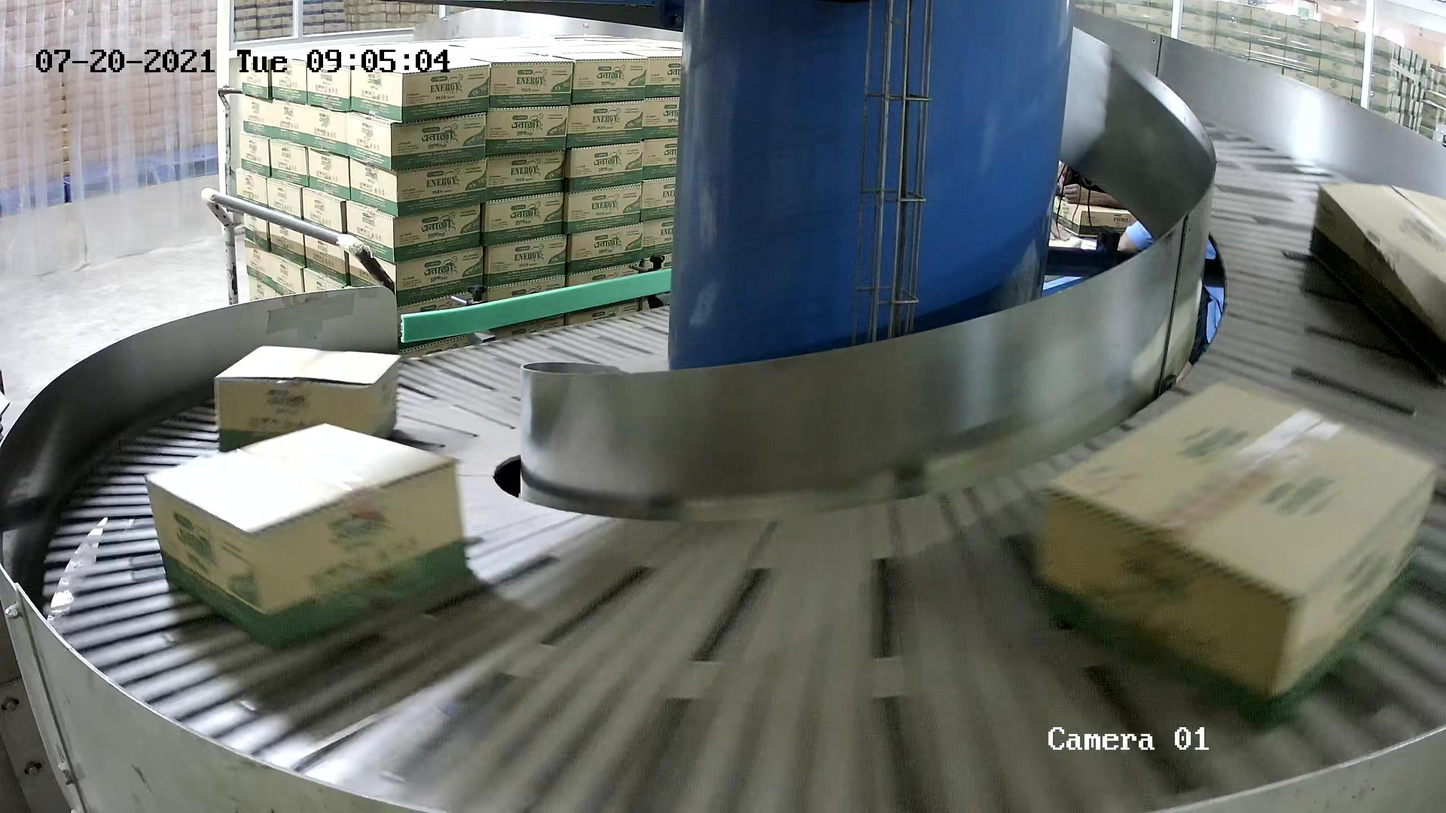Box: (1026, 371, 1446, 733), (140, 416, 475, 654), (1305, 176, 1446, 398), (214, 343, 403, 458)
